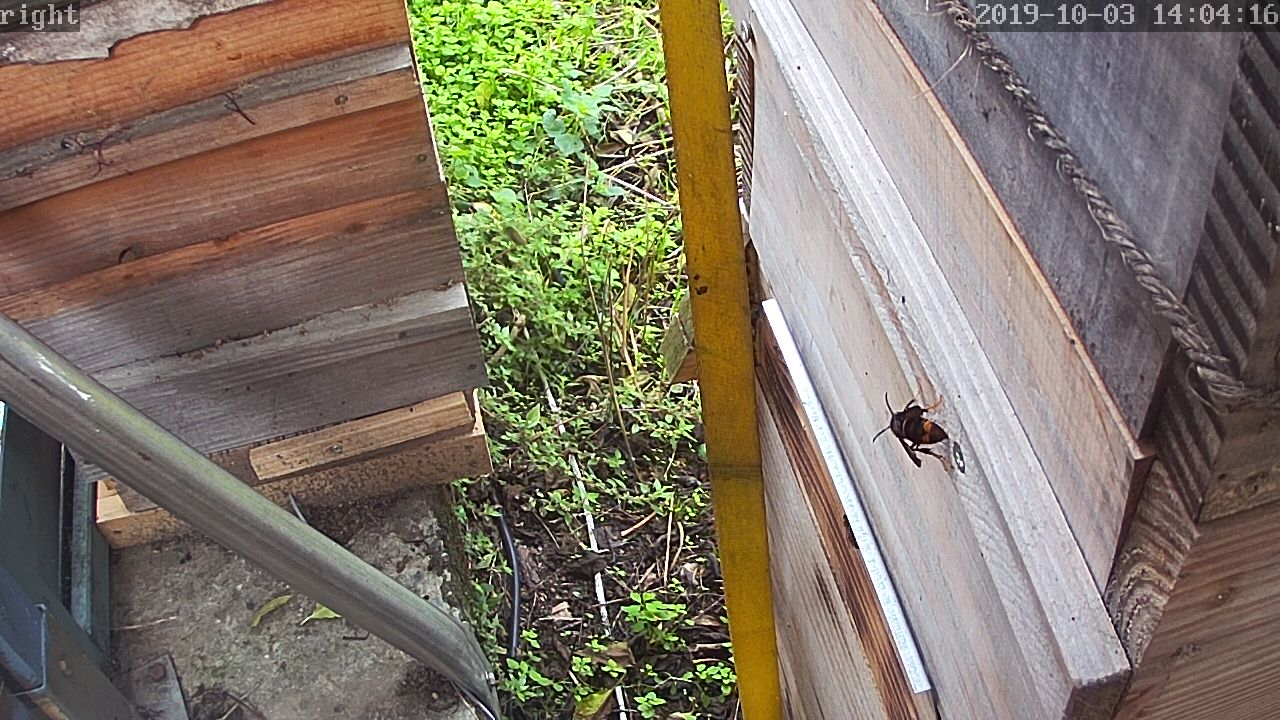hornet: (872, 400, 958, 462)
